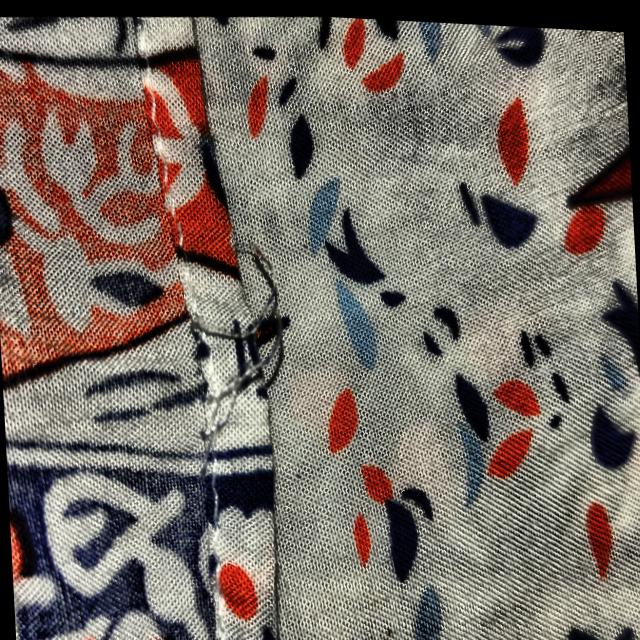Stitch: (148, 268, 346, 493)
